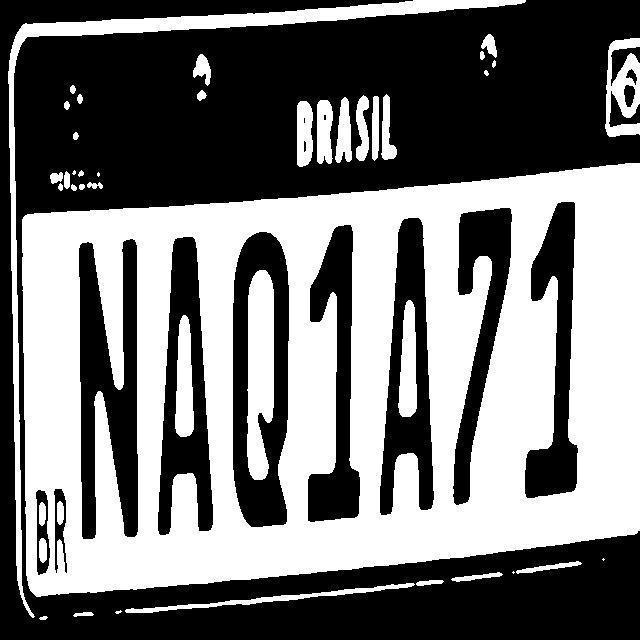1: (519, 200, 583, 498), (303, 220, 362, 524)
7: (448, 202, 514, 504)
a: (368, 208, 438, 520), (152, 238, 222, 536)
n: (80, 238, 150, 549)
q: (230, 234, 298, 532)
